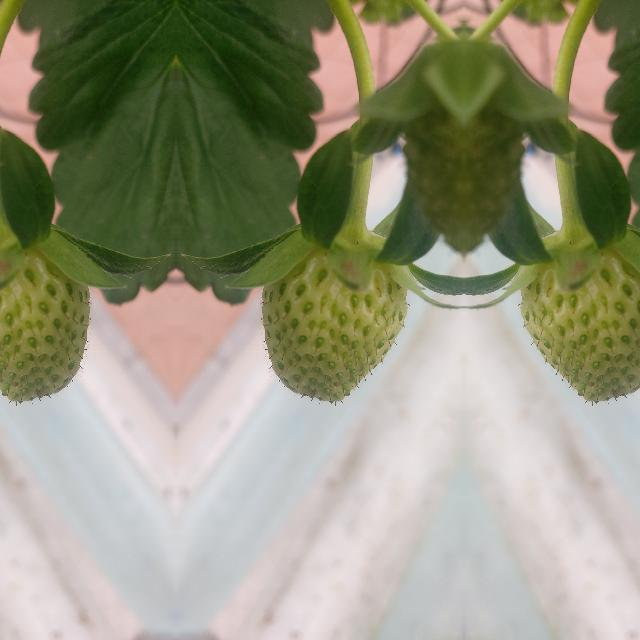Health_25: (260, 247, 406, 401), (520, 247, 640, 401), (0, 247, 89, 401)
